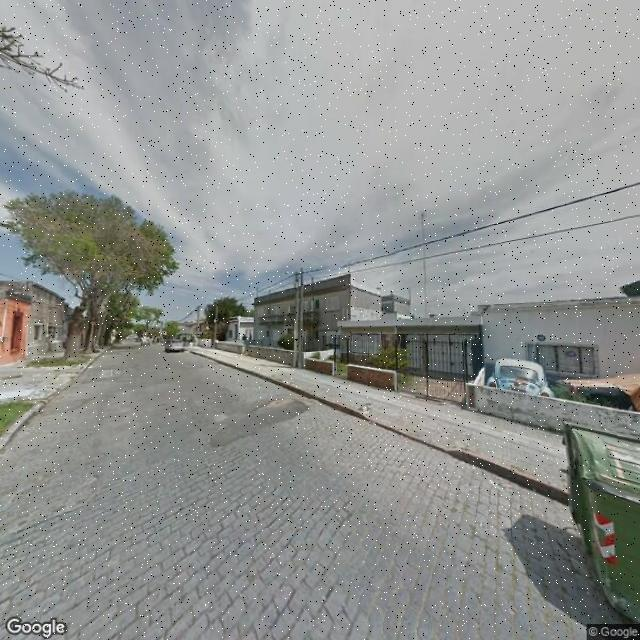garbage container: (550, 407, 640, 631)
